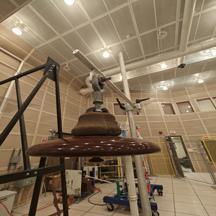insulator: (23, 101, 165, 173)
